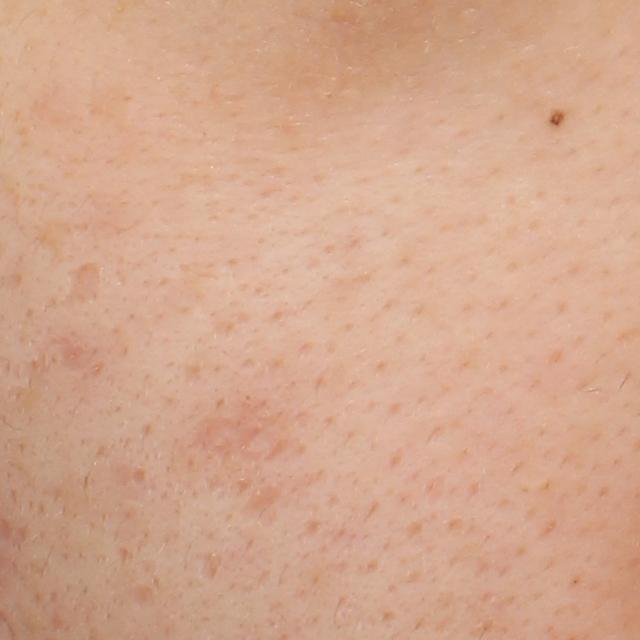atrophic_scar: (185, 398, 273, 469), (40, 256, 105, 316), (236, 477, 288, 525), (54, 339, 98, 378), (187, 549, 220, 583), (124, 584, 159, 607)
nevus: (547, 106, 569, 130)
